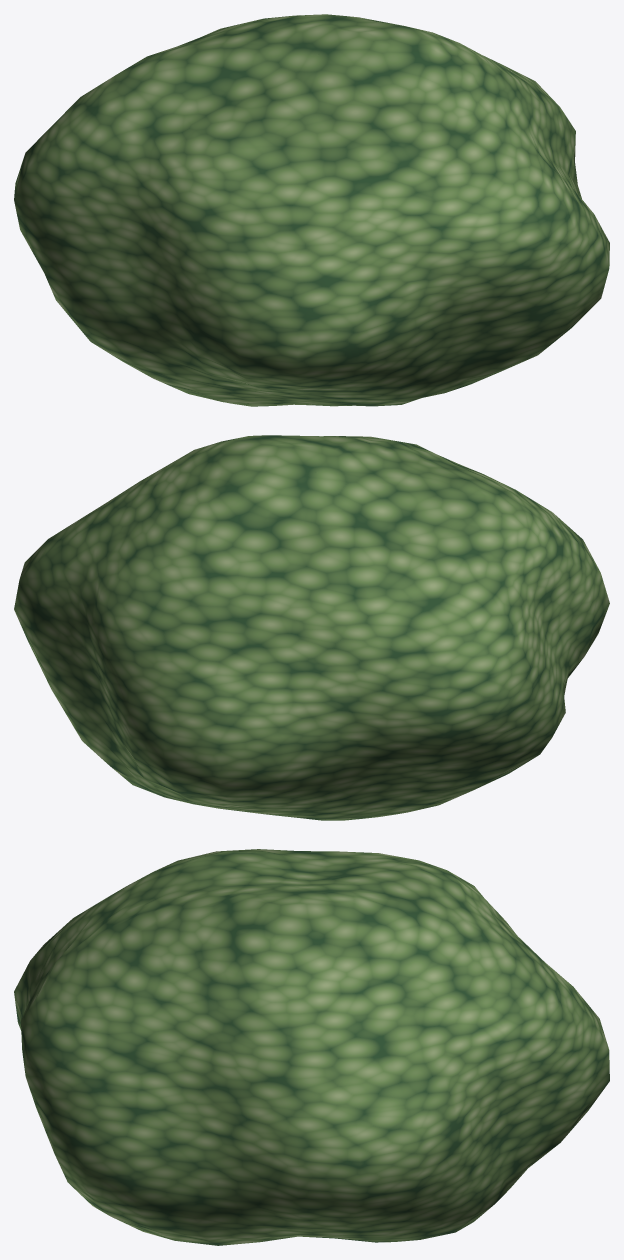
File: SmoothCanopy.fbx
The picture shows the model from 3 angles, top to bottom: view 1: azimuth 30°, elevation 25°; view 2: azimuth 150°, elevation 25°; view 3: azimuth 270°, elevation 25°; orthographic projection. The views are drawn at different scales.
Visible parts, largest first — view 1: SmoothCanopy; view 2: SmoothCanopy; view 3: SmoothCanopy.
Part boxes in pixels (left/top/right/bottom): SmoothCanopy: left=14, top=14, right=609, bottom=406; SmoothCanopy: left=14, top=435, right=609, bottom=820; SmoothCanopy: left=14, top=849, right=609, bottom=1245.
Size of the model in its own units: 210 by 130 by 208.
1 material, 1 textured.
